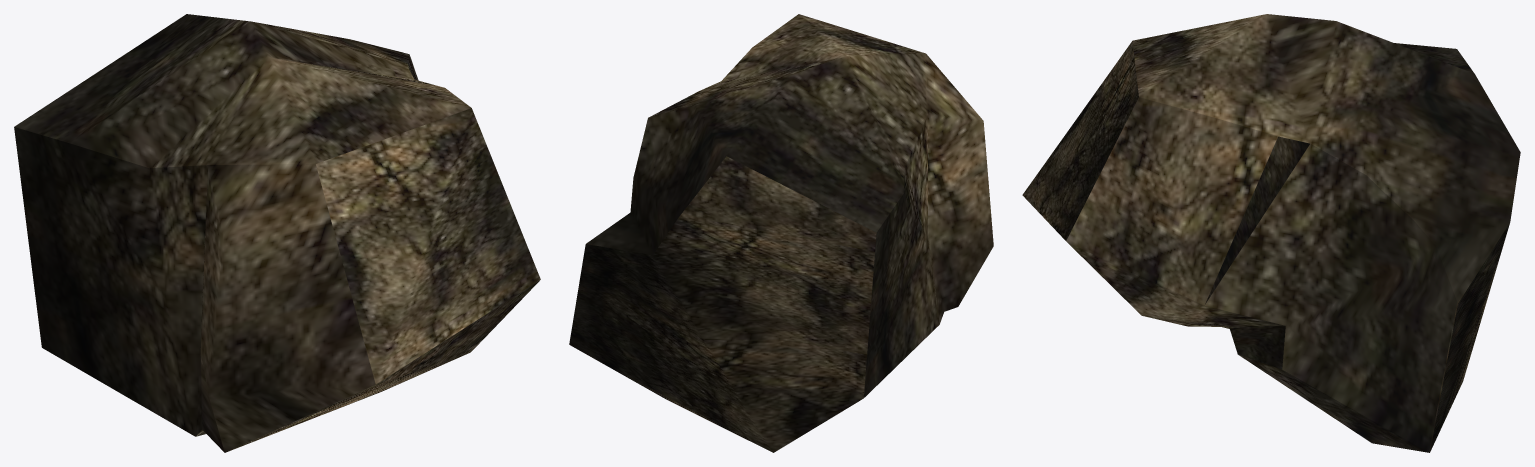
3 views of the same model, side by side, from view 1: azimuth 30°, elevation 25°; view 2: azimuth 150°, elevation 25°; view 3: azimuth 270°, elevation 25° (orthographic). The views are drawn at different scales.
Visible parts, largest first — view 1: model_Object34; view 2: model_Object34; view 3: model_Object34.
Boxes of the visible parts, x1,y1,x2,y2 form: model_Object34: (14, 14, 540, 452); model_Object34: (569, 14, 993, 452); model_Object34: (1022, 14, 1520, 452).
Bounding box in the file's own units: 1.16 × 1.15 × 1.37.
1 material, 1 textured.
